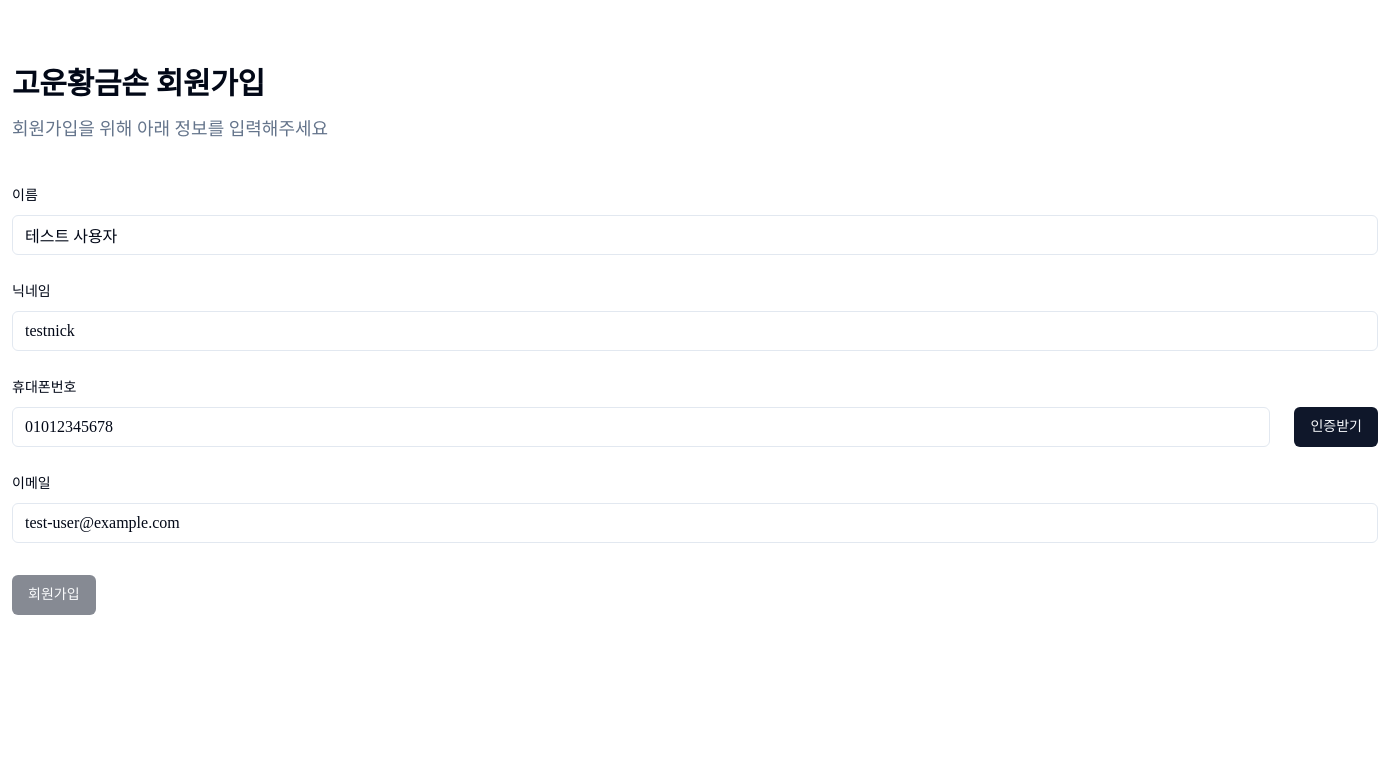
Test: SignupPage 컴포넌트 테스트 › [휴대폰인증] 인증번호 전송 성공 후에만 인증코드 입력창 노출
This screenshot has width=1390, height=768.
What coordinates should you click on to do the following:
click the button "인증받기"
I would click on:
 (1336, 427)
Its box is [1294,407,1378,447].
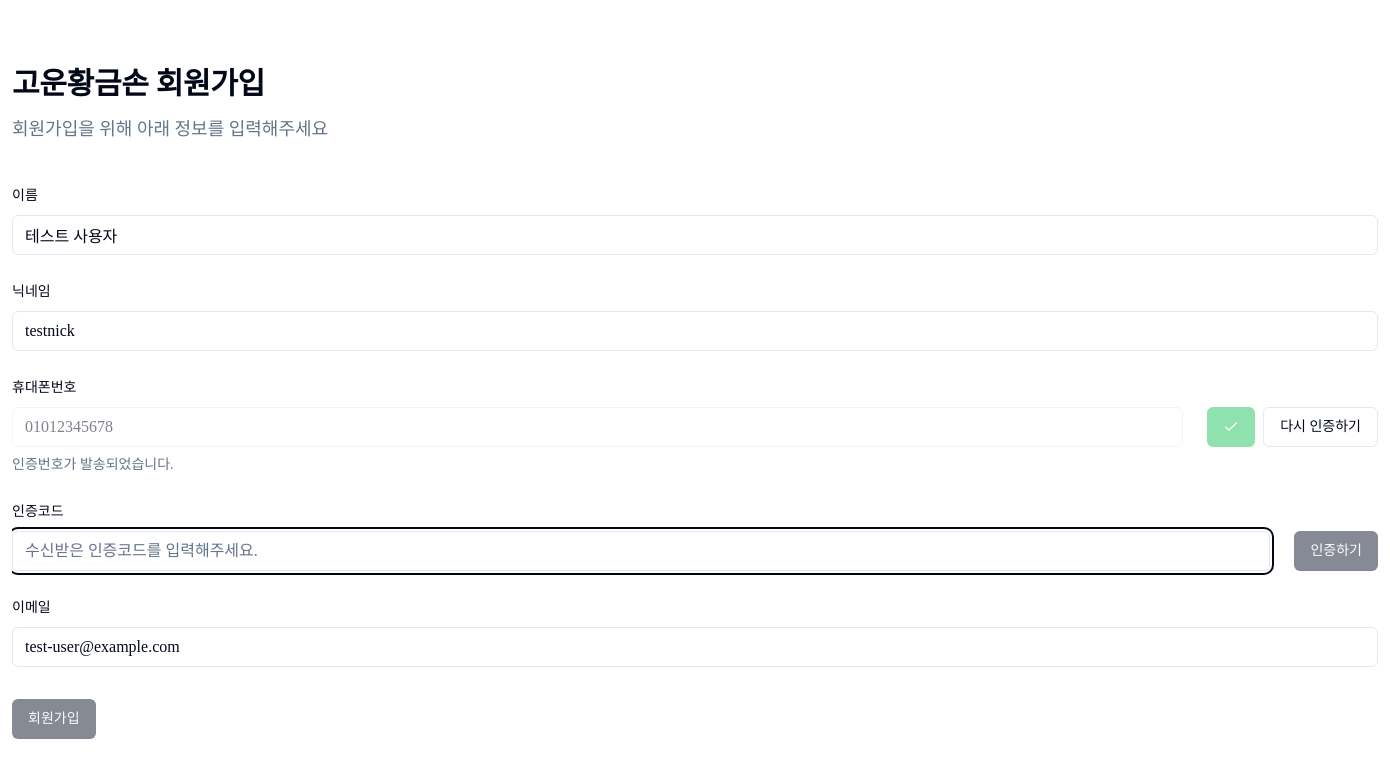
Expected: the field labelled "인증코드" is shown, [12,531,1270,571]
